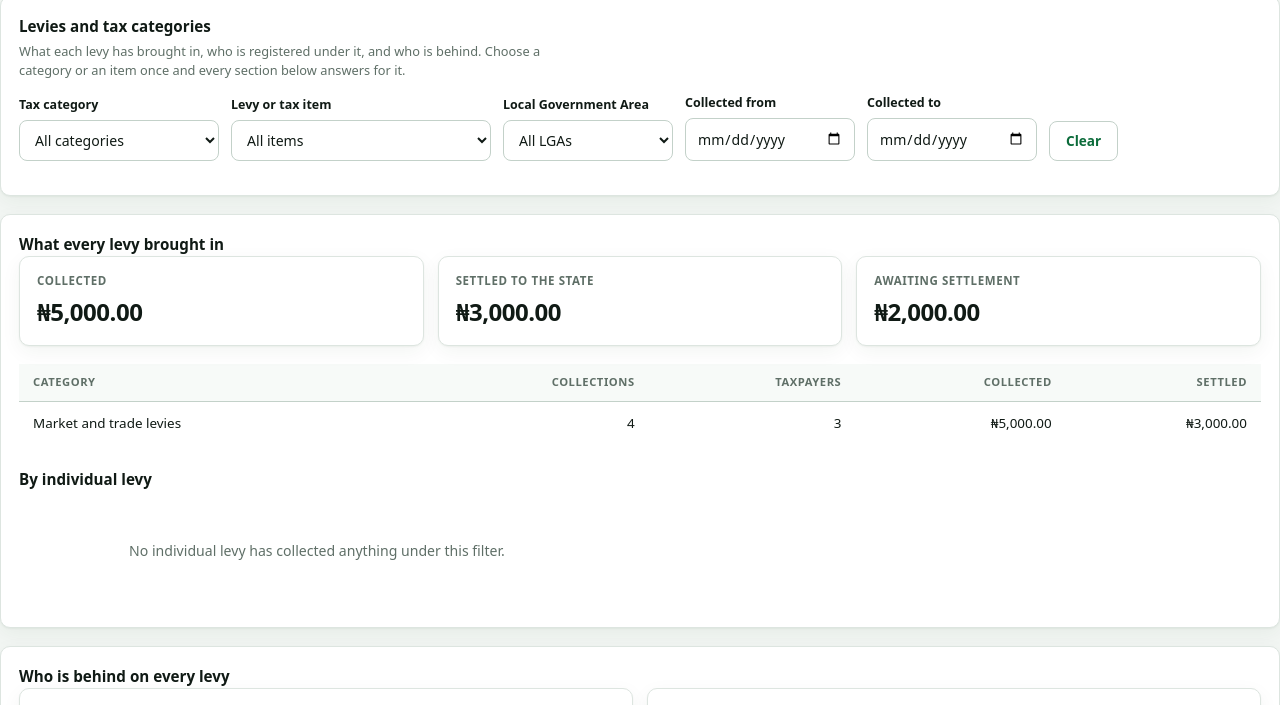
Test case: the registrant roll says when it is not everybody › says so when the roll comes back full
Select "Market and trade levies" in the dropdown labelled "Tax category" at coordinates (119, 140), box [19, 120, 219, 161]
(page scrolled)
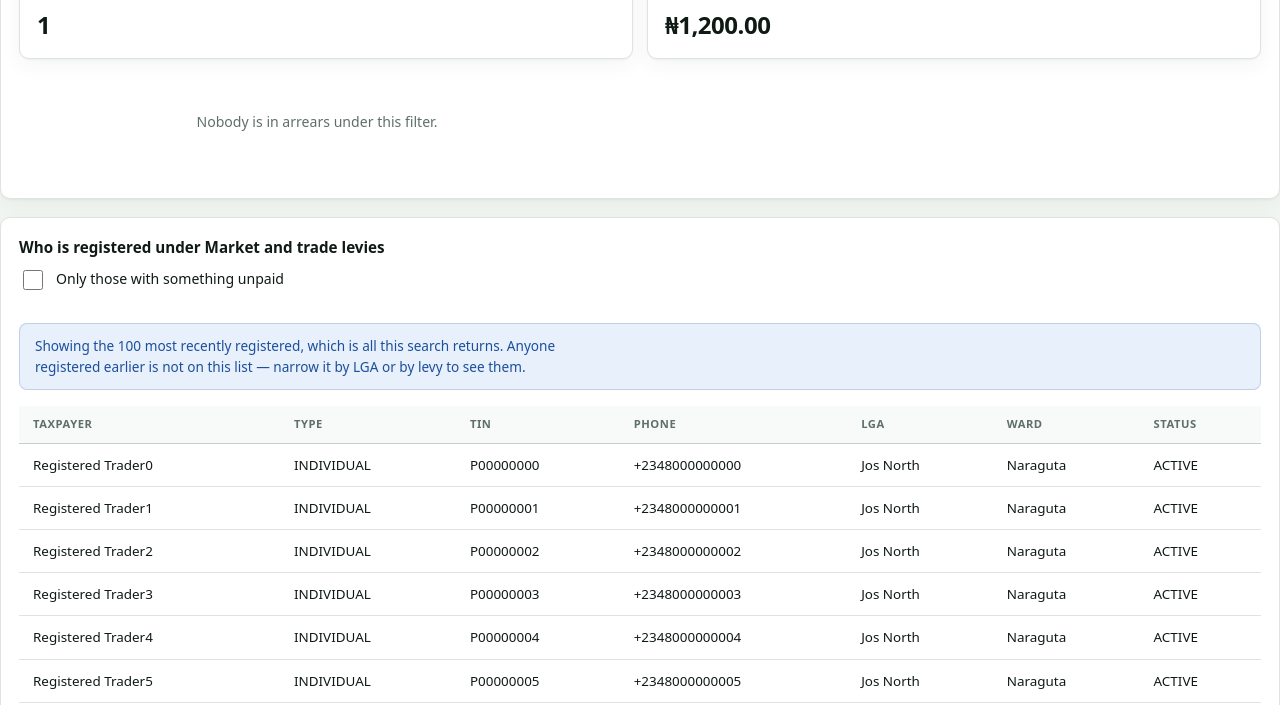
Expected: the text "Registered Trader0" is shown, [19, 443, 280, 486]
Expected: the text "most recently registered" is shown, [35, 336, 555, 376]
